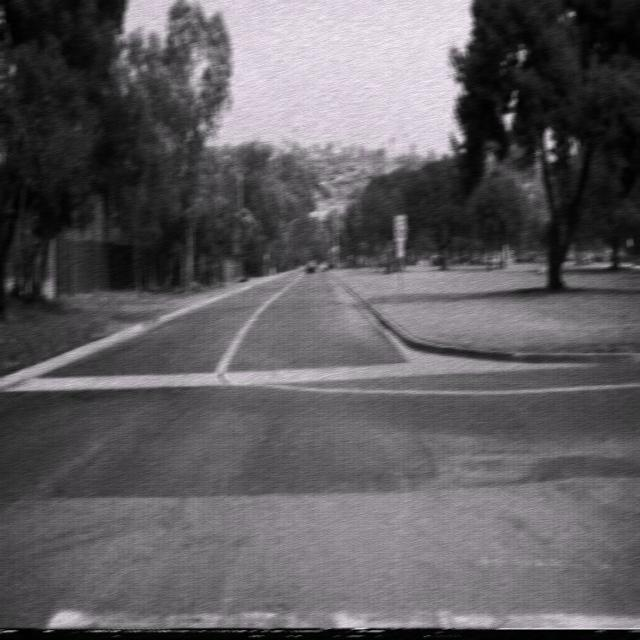speedLimit30: (393, 214, 406, 242)
